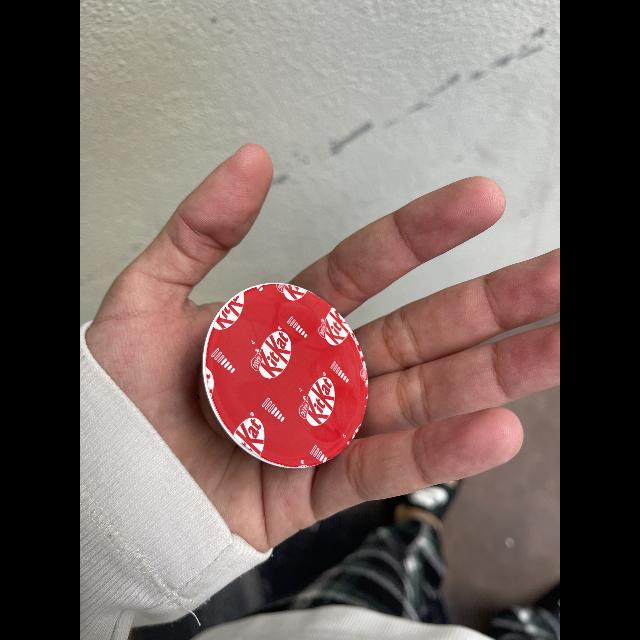intact_capsule: (190, 270, 376, 478)
